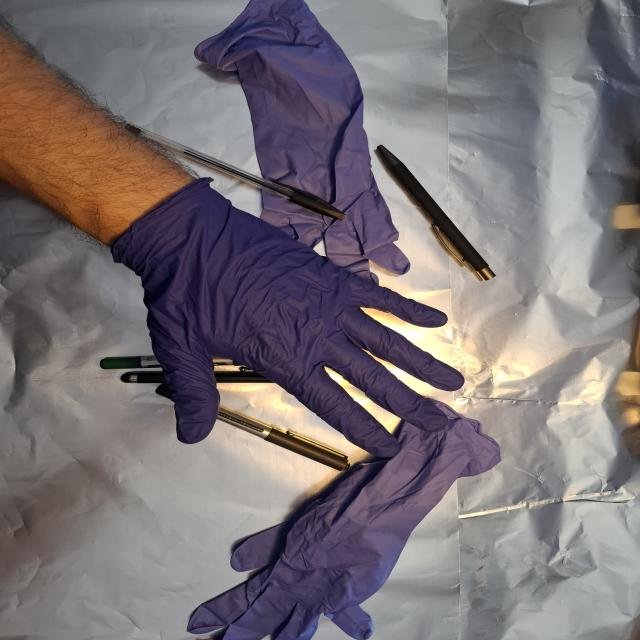glove_on: (112, 183, 466, 459)
